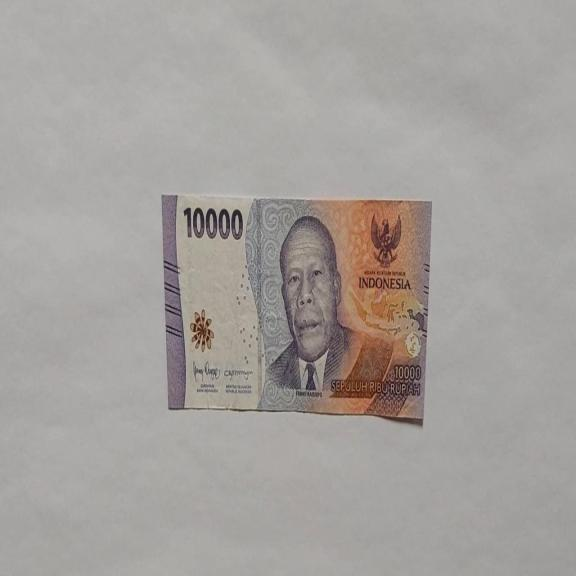Kertas: (162, 192, 432, 422), (182, 204, 244, 242)
